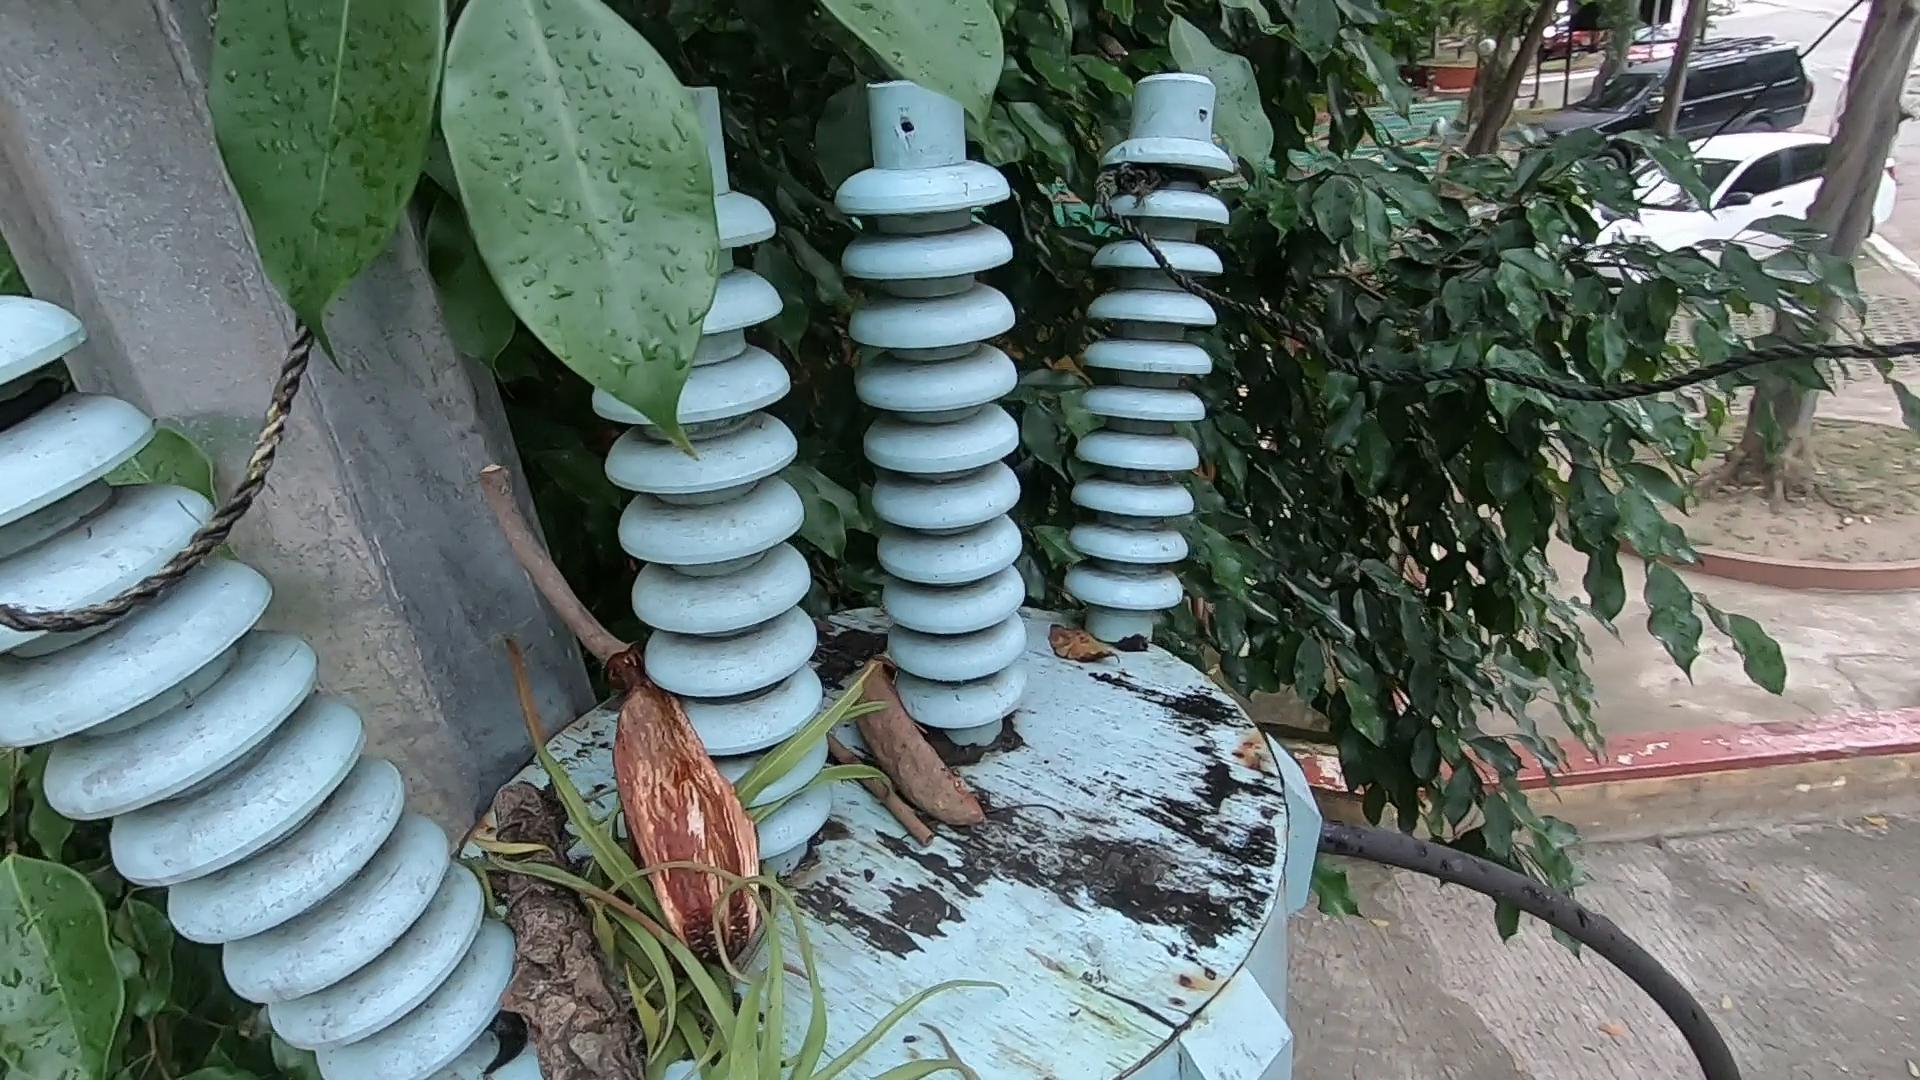branch with leaves: (462, 757, 855, 1071)
leaf: (1029, 613, 1244, 678)
mahogany fruit: (612, 674, 746, 949), (856, 644, 1000, 836)
tree branch: (468, 448, 632, 680), (808, 723, 951, 851)
